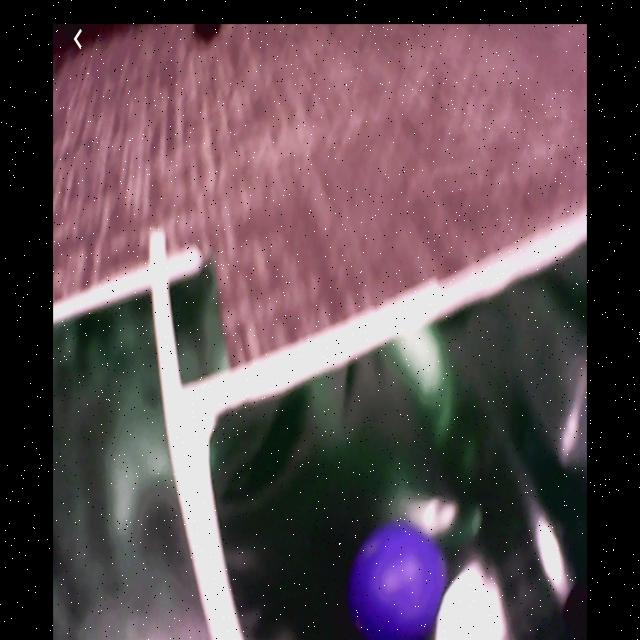ball: (354, 532, 448, 639)
